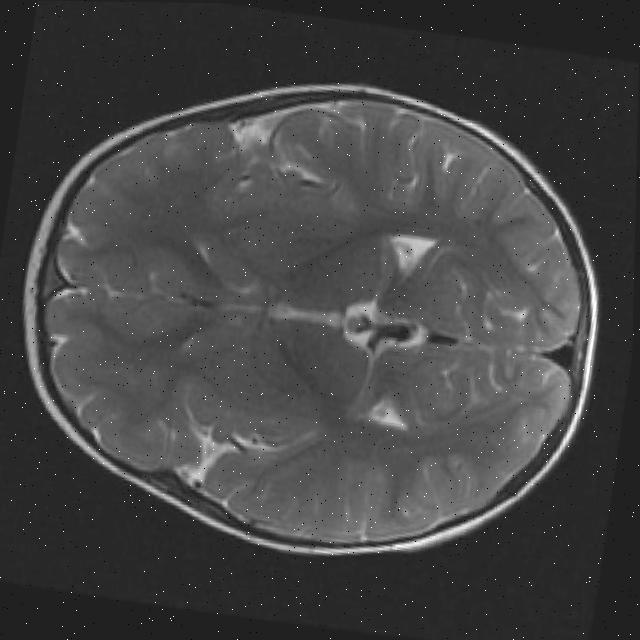NoTumor: (0, 34, 633, 590)
